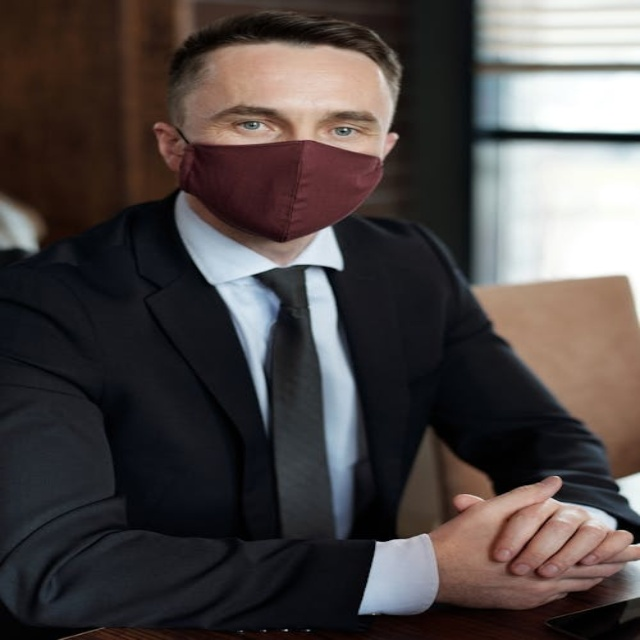Mascara: (177, 132, 384, 242)
Sin_gafas: (232, 119, 275, 133), (327, 125, 365, 138)
Sin_guantes: (428, 475, 637, 614)
